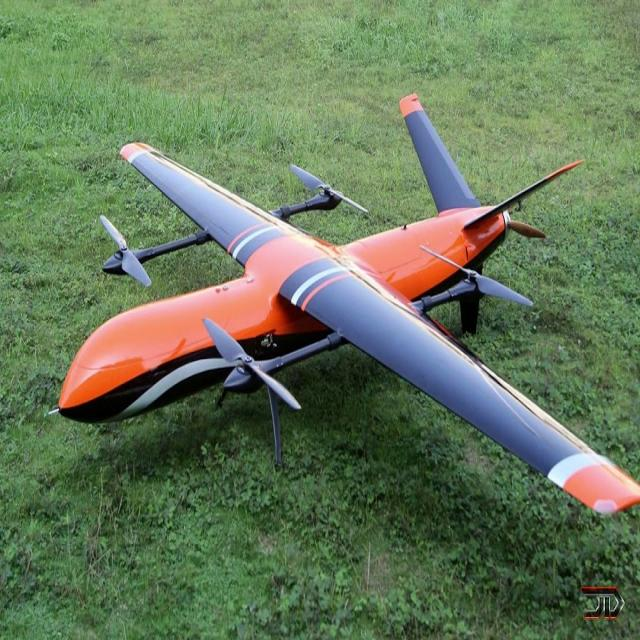drone: (46, 91, 640, 521)
